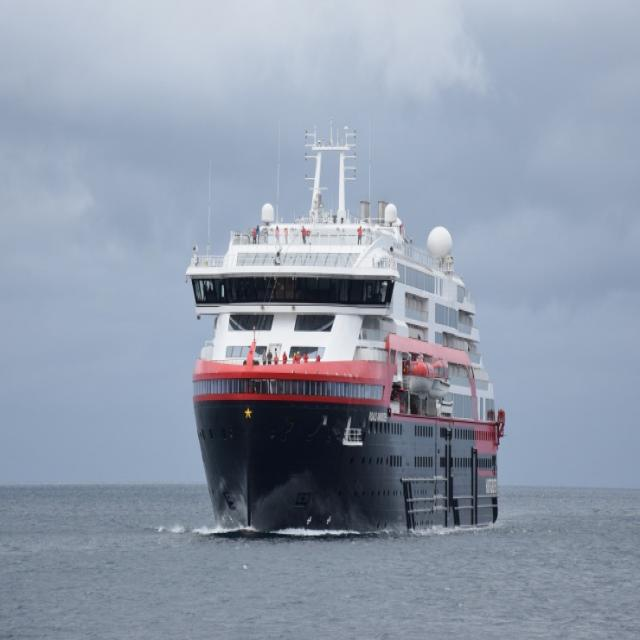cruises: (181, 120, 507, 564)
